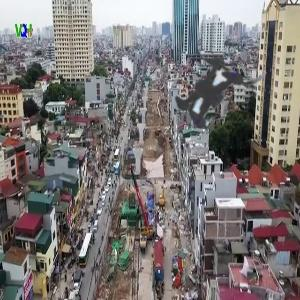drone: (121, 10, 292, 181)
